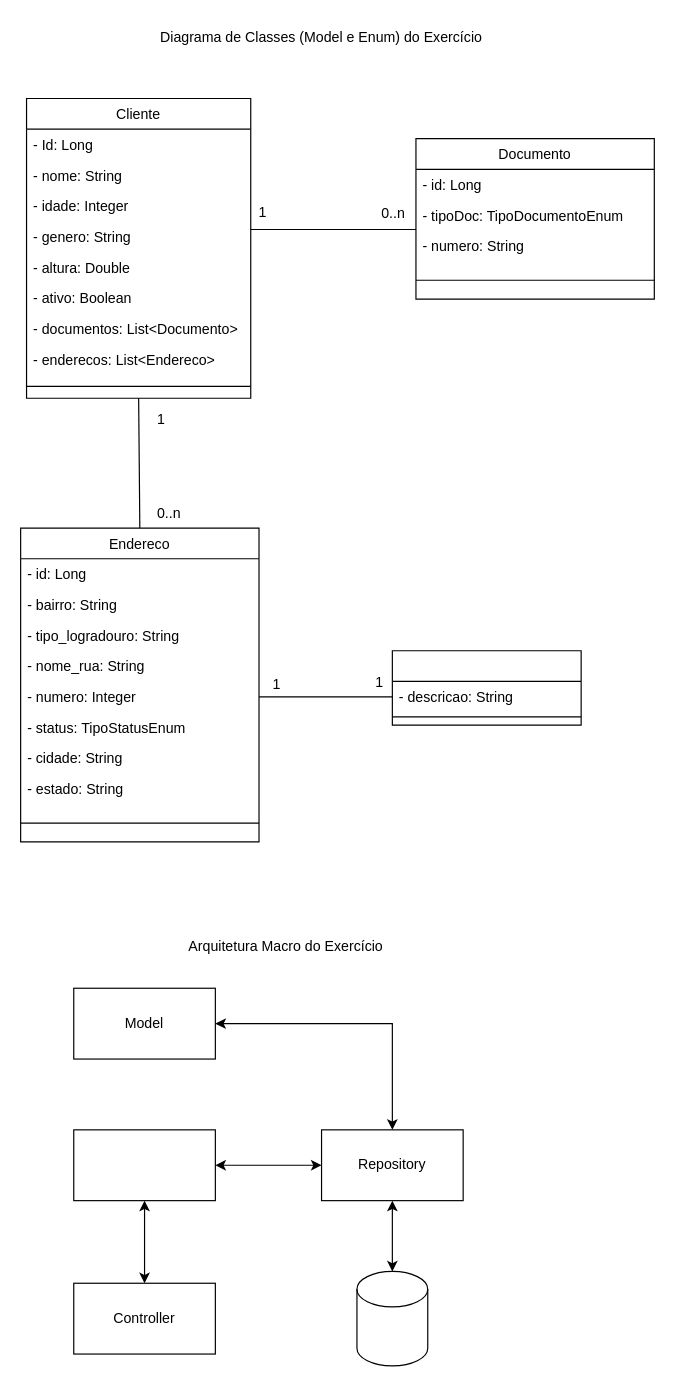
This 675x1386 diagram has some shape labels left out. Here are the shapes that lost their labels. From the top down, the box of each, then its label:
(391, 650, 581, 725): TipoStatus
(73, 1129, 215, 1201): Service
(356, 1270, 428, 1366): DB
